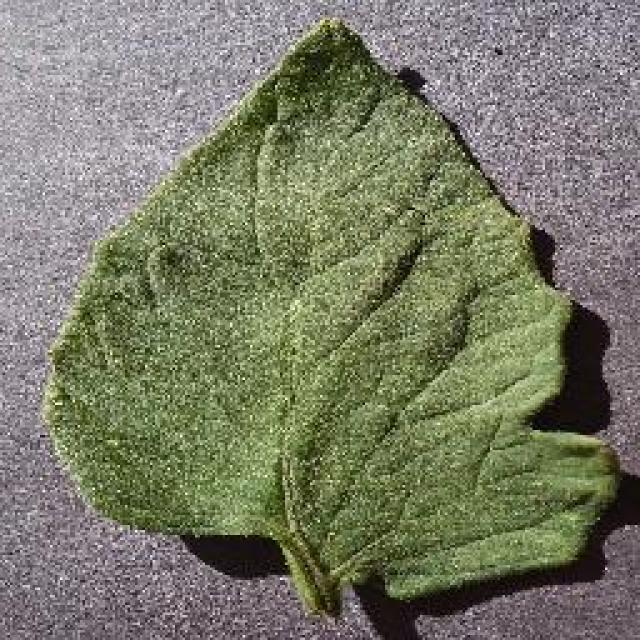Tomato healthy leaf: (50, 11, 612, 606)
